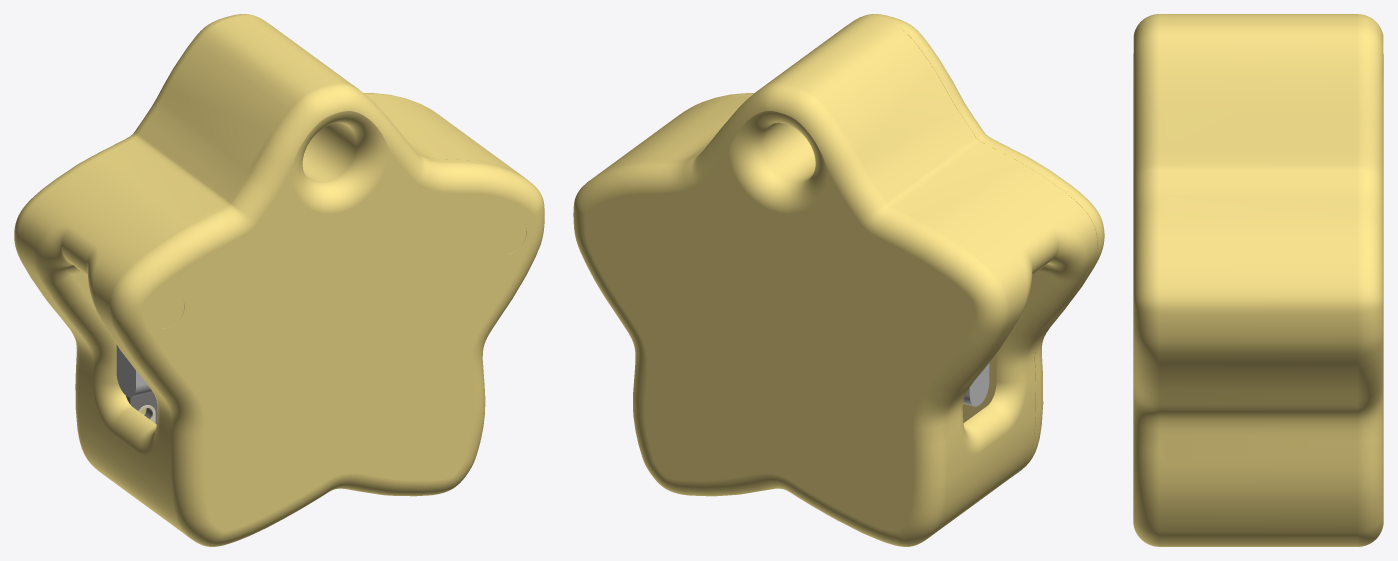
The model's file is starsaidnothing.gltf.
The picture shows the model from 3 angles, left to right: view 1: azimuth 30°, elevation 25°; view 2: azimuth 150°, elevation 25°; view 3: azimuth 270°, elevation 25°; orthographic projection. The views are drawn at different scales.
Parts seen in each view (by area): view 1: Part 2, Part 1, ESP32-C3 supermini v5; view 2: Part 1, Part 2, ESP32-C3 supermini v5; view 3: Part 1, Part 2.
Boxes of the visible parts, x1,y1,x2,y2 form: Part 2: (106,80,544,546); Part 1: (14,14,523,533); ESP32-C3 supermini v5: (116,345,152,397); Part 1: (573,18,1097,546); Part 2: (682,14,1104,473); ESP32-C3 supermini v5: (963,363,989,406); Part 1: (1167,14,1383,546); Part 2: (1133,14,1167,546).
Size of the model in its own units: 0.0408 by 0.0391 by 0.0191.
